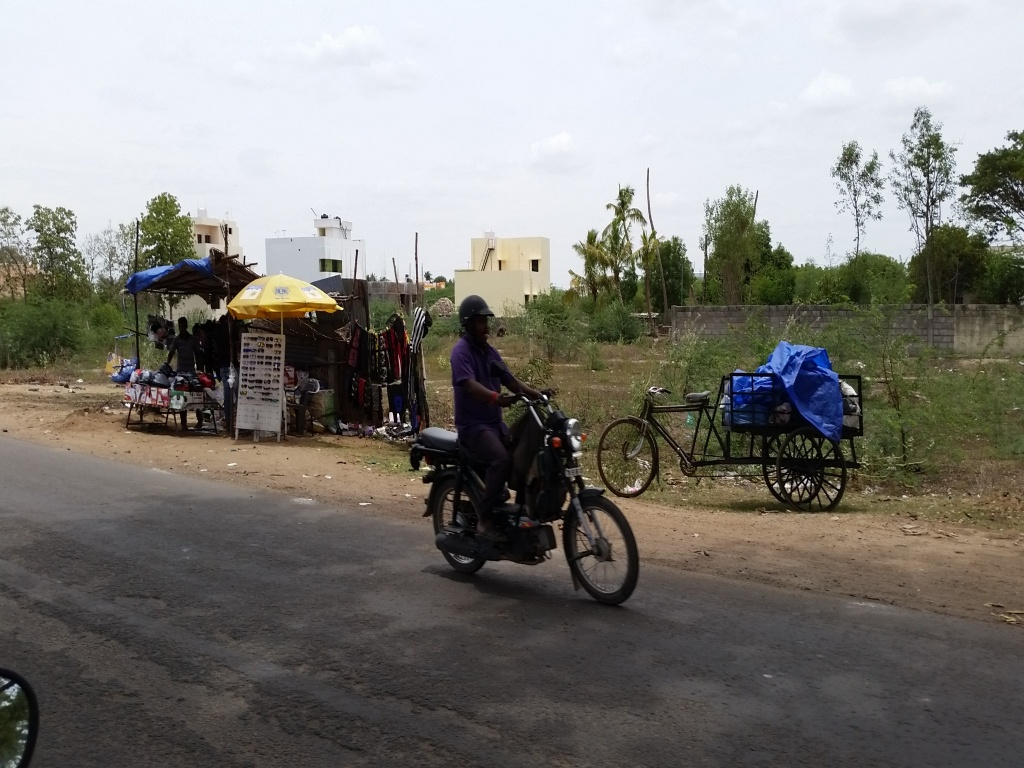biker: (392, 269, 666, 620)
helmet: (453, 286, 503, 363)
